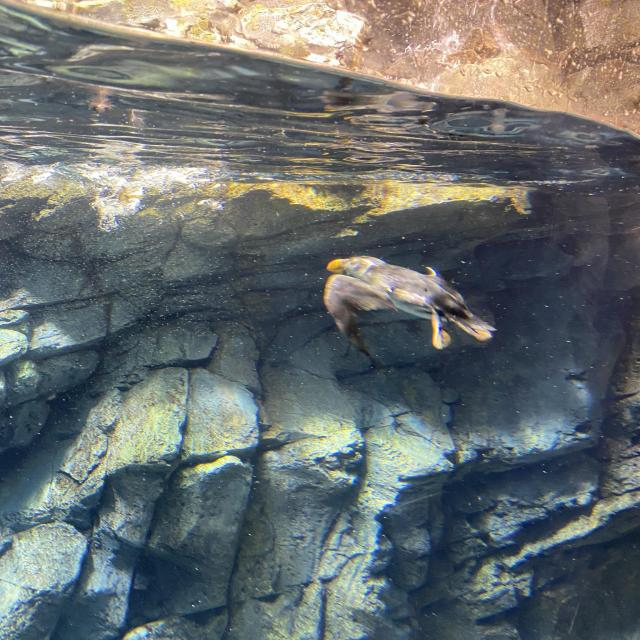puffin: (318, 248, 500, 361)
